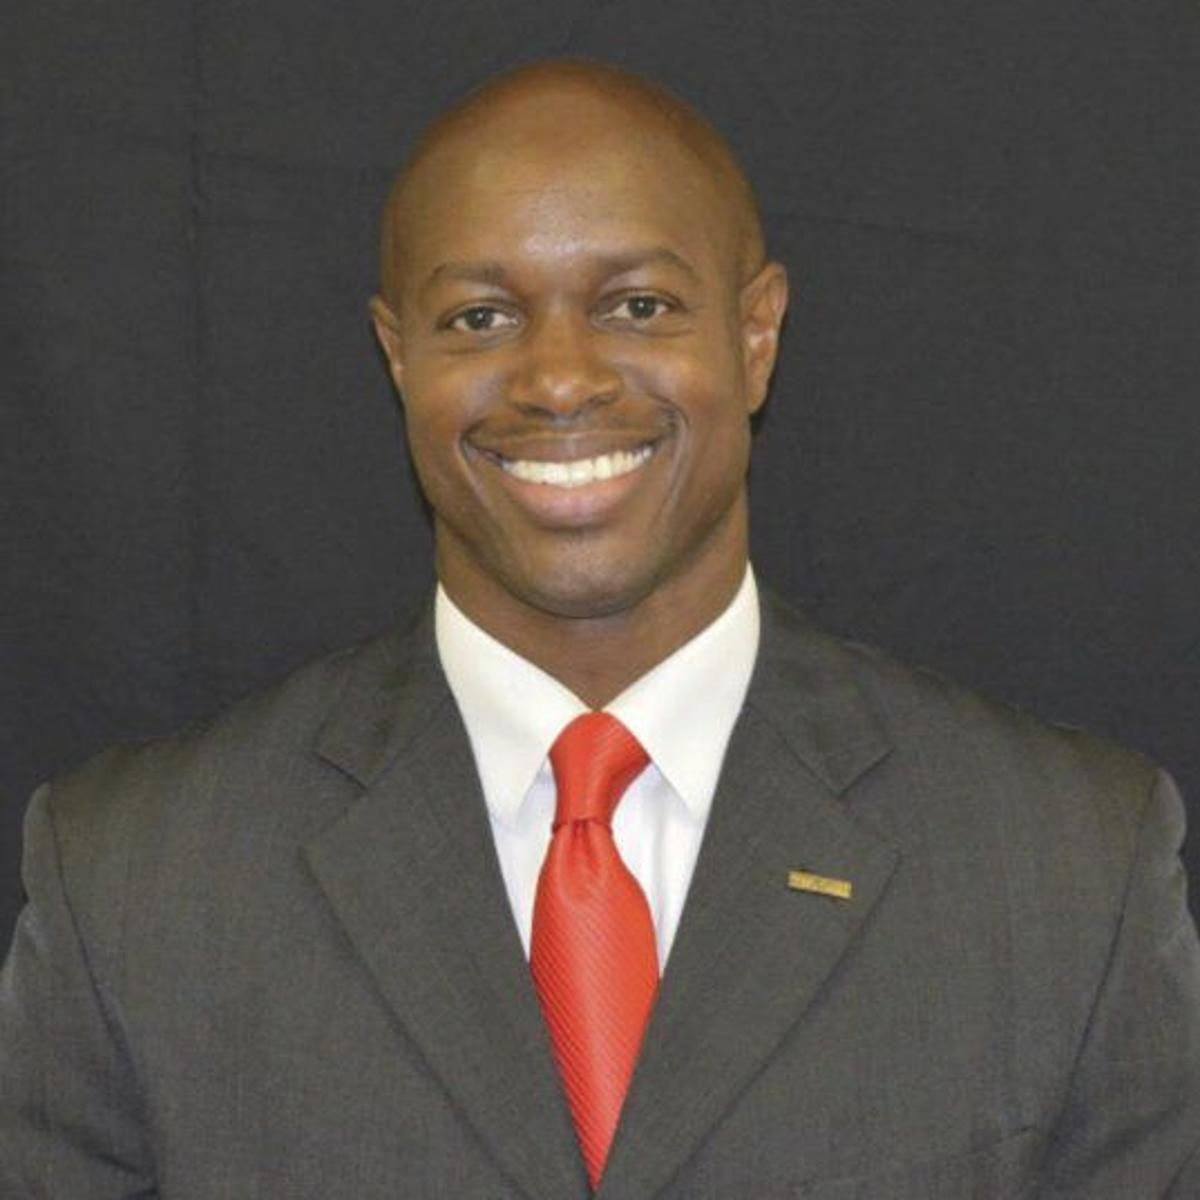person: (364, 52, 790, 620)
